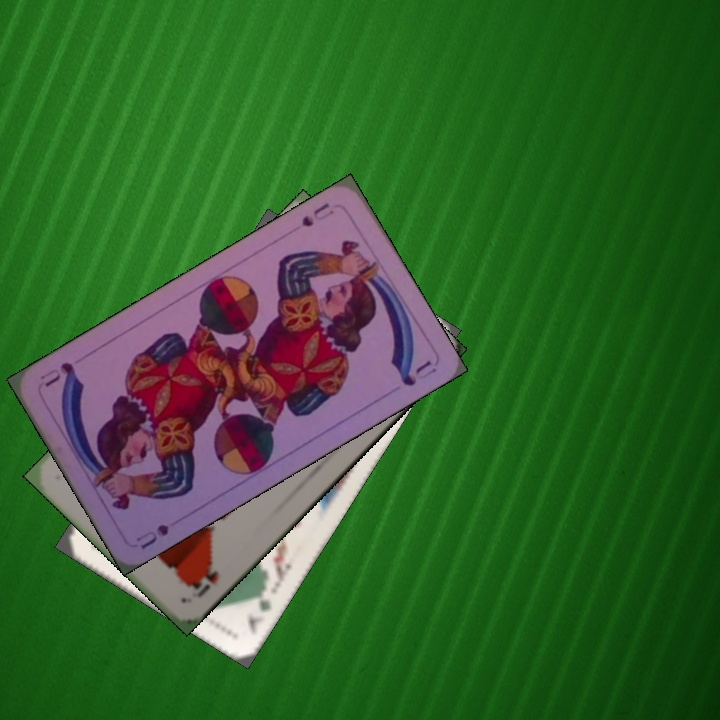GK: (242, 579, 275, 636)
HO: (185, 566, 221, 601)
SU: (132, 520, 172, 552), (297, 198, 336, 230)
